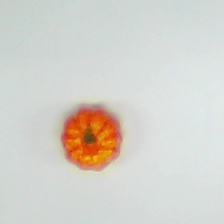pumpkin: (52, 98, 143, 179)
